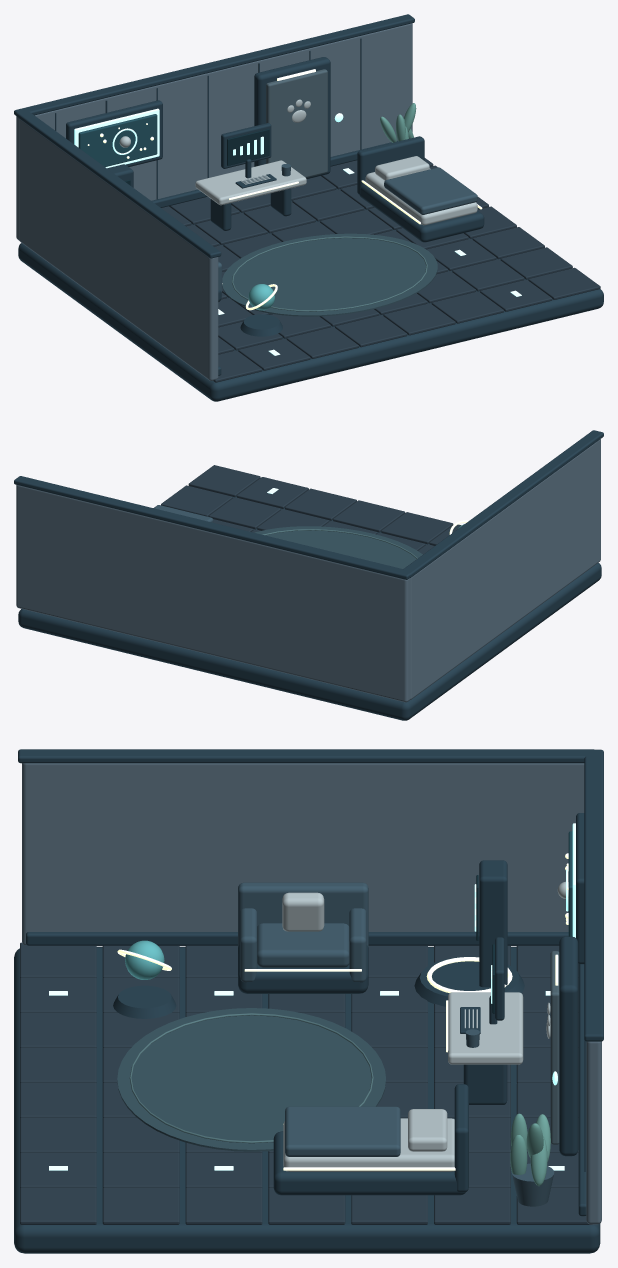
File: station.glb
The picture shows the model from 3 angles, top to bottom: view 1: azimuth 30°, elevation 25°; view 2: azimuth 150°, elevation 25°; view 3: azimuth 270°, elevation 25°; orthographic projection. The views are drawn at different scales.
Visible parts, largest first — view 1: Static_Orbital_Nook (×2), FloorTiles, CentralRug, Static_Prop_bed (×2), DoorPanel, Static_Prop_console (×2), Blanket, WindowGlass, DoorFrame, WindowFrame, MonitorDisplay, RugStitch (+3 smaller); view 2: Static_Orbital_Nook (×2), FloorTiles, CentralRug; view 3: Static_Orbital_Nook (×2), FloorTiles, CentralRug, Static_Prop_bed (×3), Static_Prop_sofa, Static_Prop_console (×2), Blanket, Static_Prop_charger, DoorFrame, SofaBase, DoorPanel, ToyStand (+5 smaller).
Part boxes in pixels (x1,y1,x2,y2): Static_Orbital_Nook (×2): [14, 14, 603, 401]; FloorTiles: [161, 158, 600, 382]; CentralRug: [222, 233, 437, 316]; Static_Prop_bed (×2): [357, 136, 484, 242]; DoorPanel: [266, 69, 327, 177]; Static_Prop_console (×2): [195, 123, 306, 230]; Blanket: [384, 167, 477, 214]; WindowGlass: [78, 114, 157, 166]; DoorFrame: [254, 57, 330, 178]; WindowFrame: [66, 100, 162, 166]; MonitorDisplay: [227, 129, 269, 165]; RugStitch: [231, 236, 427, 311]; Static_Orbital_Nook (×2): [14, 430, 603, 720]; FloorTiles: [161, 465, 461, 554]; CentralRug: [254, 526, 422, 568]; Static_Orbital_Nook (×2): [14, 749, 603, 1253]; FloorTiles: [20, 942, 592, 1224]; CentralRug: [117, 1008, 385, 1151]; Static_Prop_bed (×3): [273, 1084, 468, 1195]; Static_Prop_sofa: [238, 882, 368, 982]; Static_Prop_console (×2): [448, 937, 523, 1104]; Blanket: [285, 1106, 400, 1156]; Static_Prop_charger: [414, 860, 524, 1006]; DoorFrame: [559, 936, 578, 1156]; SofaBase: [238, 945, 368, 993]; DoorPanel: [550, 951, 559, 1144]; ToyStand: [113, 985, 176, 1018].
Bounding box in the file's own units: 8.56 × 3.1 × 7.44.
